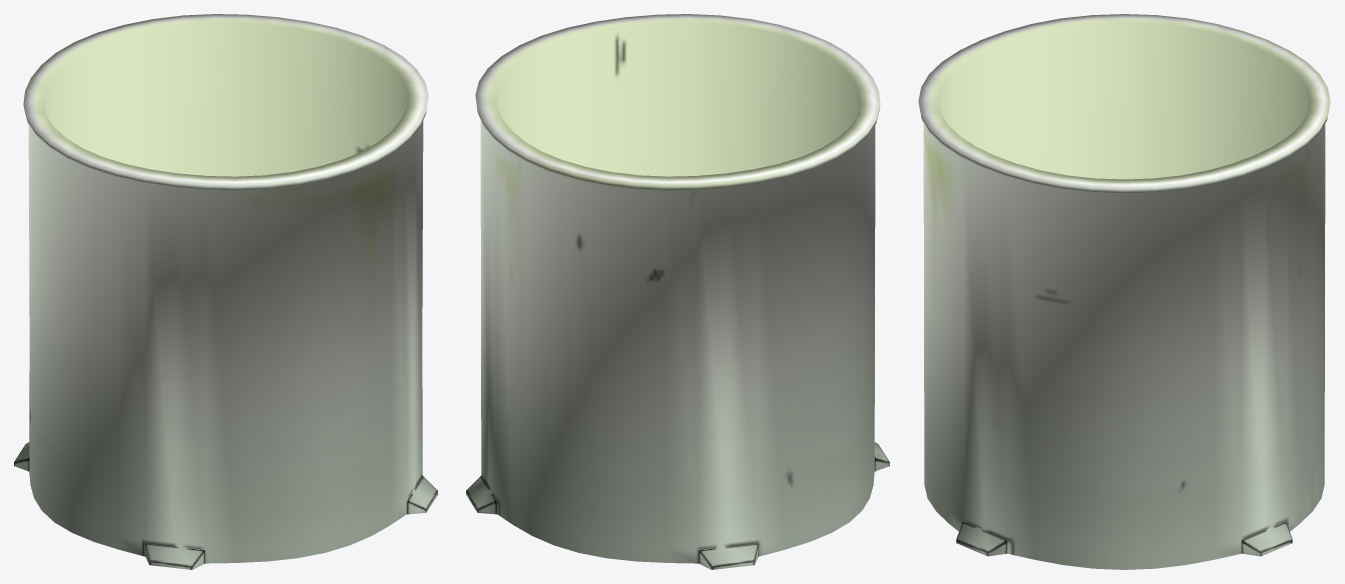
File: TankHuge.fbx
The picture shows the model from 3 angles, left to right: view 1: azimuth 30°, elevation 25°; view 2: azimuth 150°, elevation 25°; view 3: azimuth 270°, elevation 25°; orthographic projection.
Parts seen in each view (by area): view 1: Tank; view 2: Tank; view 3: Tank.
Part boxes in pixels (<box>): Tank: <box>14,14,437,569</box>; Tank: <box>466,14,889,569</box>; Tank: <box>918,14,1330,569</box>.
Bounding box in the file's own units: 19.67 × 20.24 × 19.67.
